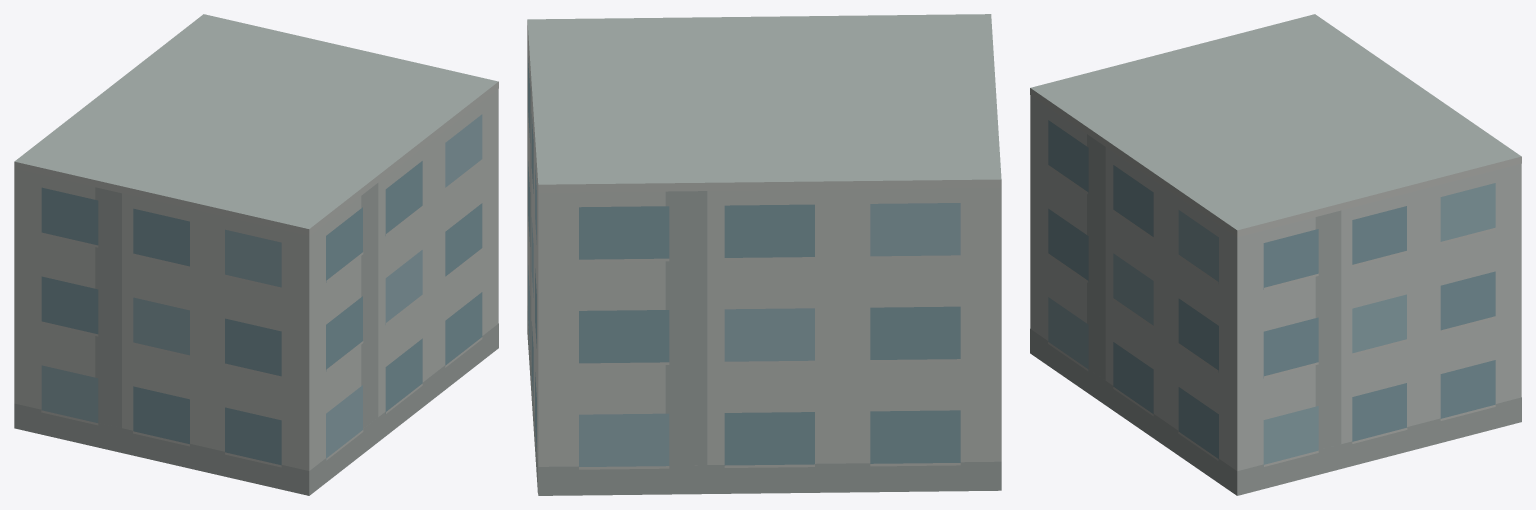
Rendered from residential-60157297-9703-400a-a1c3-15f246375255.glb.
3 views of the same model, side by side, from view 1: azimuth 30°, elevation 25°; view 2: azimuth 150°, elevation 25°; view 3: azimuth 270°, elevation 25° (orthographic). The views are drawn at different scales.
Parts seen in each view (by area): view 1: residential-60157297-9703-400a-a1c3-15f246375255.tmp; view 2: residential-60157297-9703-400a-a1c3-15f246375255.tmp; view 3: residential-60157297-9703-400a-a1c3-15f246375255.tmp.
Part boxes in pixels (x1,y1,x2,y2): residential-60157297-9703-400a-a1c3-15f246375255.tmp: [14, 14, 498, 495]; residential-60157297-9703-400a-a1c3-15f246375255.tmp: [527, 14, 1001, 495]; residential-60157297-9703-400a-a1c3-15f246375255.tmp: [1030, 14, 1521, 495].
Size of the model in its own units: 16 by 9.15 by 15.36.
